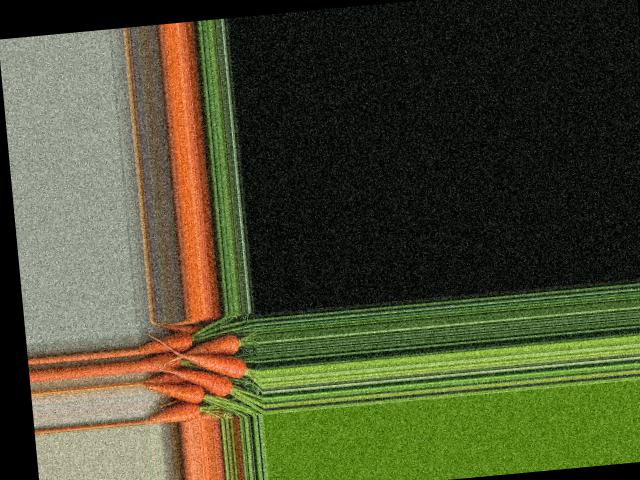carrot: (142, 407, 202, 423)
